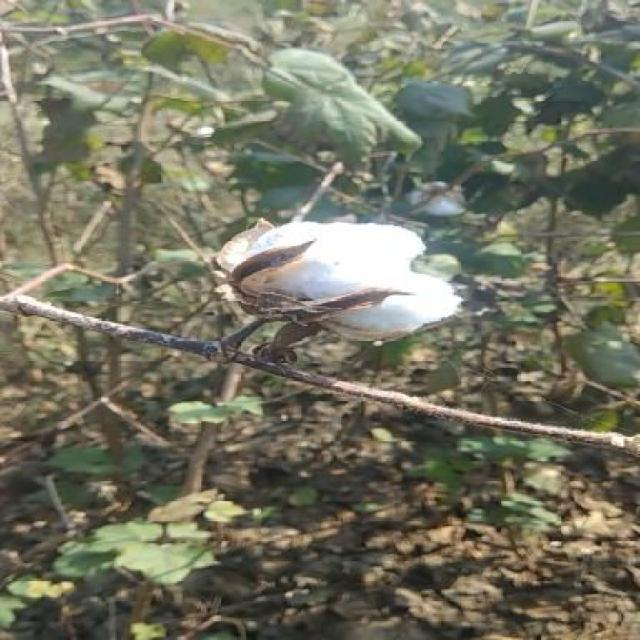cotton_ready: (130, 197, 468, 431)
